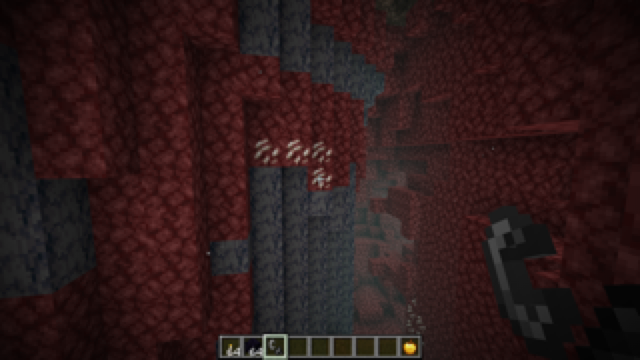quartz: (246, 136, 335, 193), (404, 295, 426, 351)
